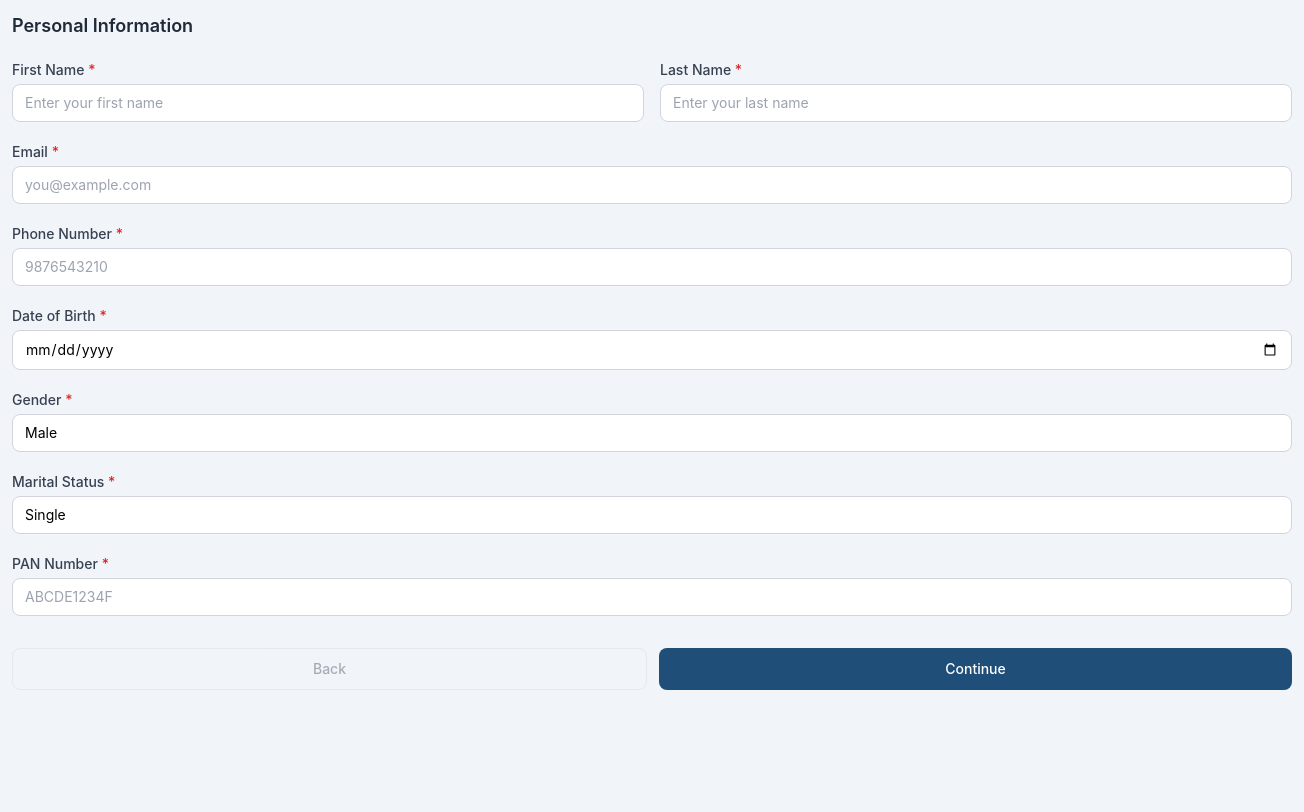
Scenario: PersonalInfo component › clears error when field is corrected
This screenshot has width=1304, height=812.
Click the button "Continue" at (976,669), box [659,648,1292,690]
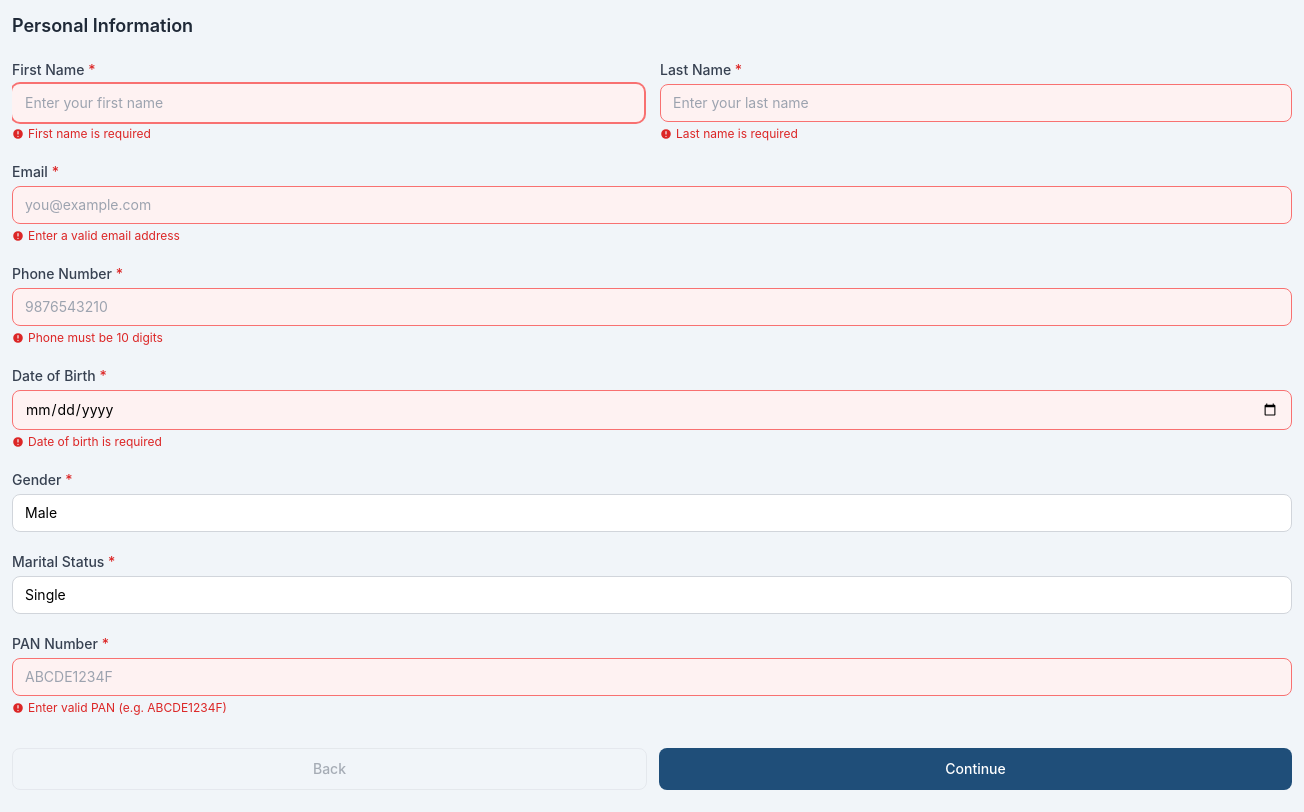
Type "Rahul" into the field with placeholder "Enter your first name" at (328,103), box [12,84,644,122]
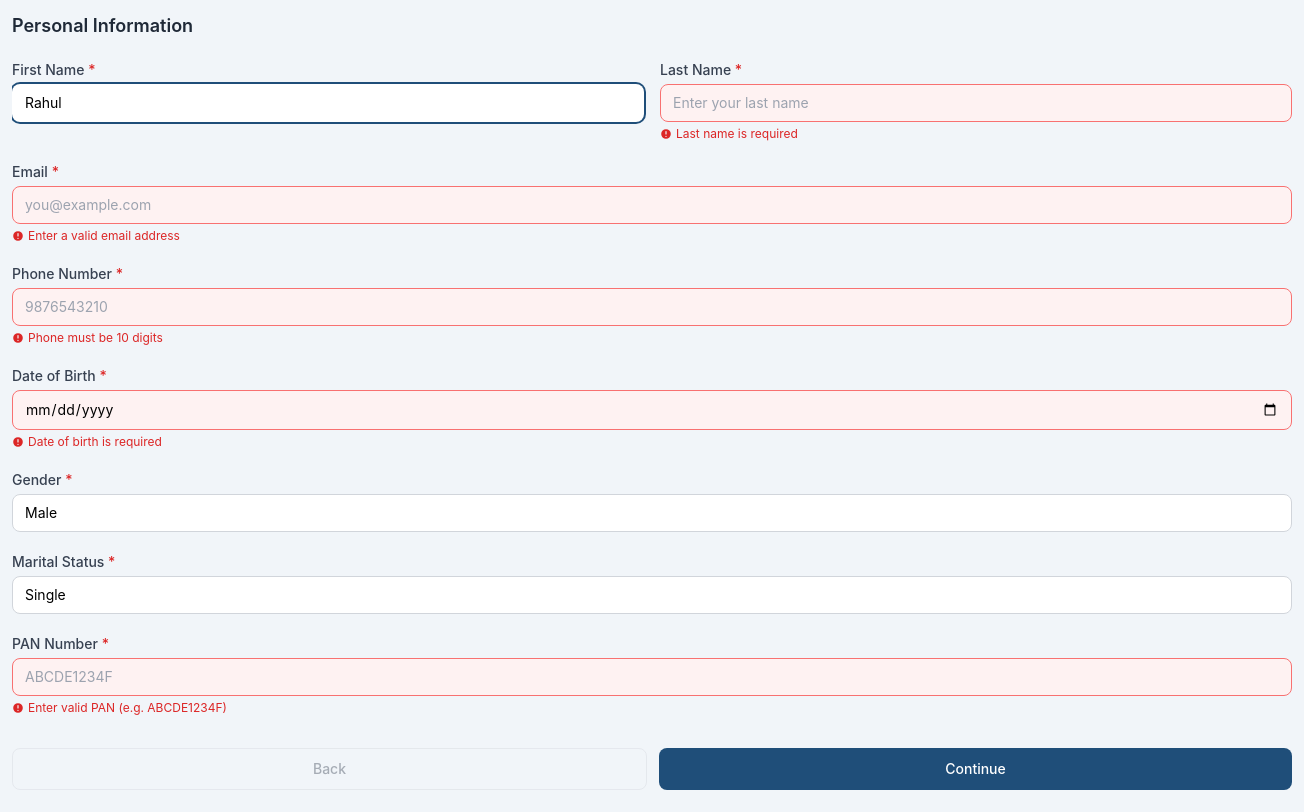
Expected: the text "First name is required" is gone
